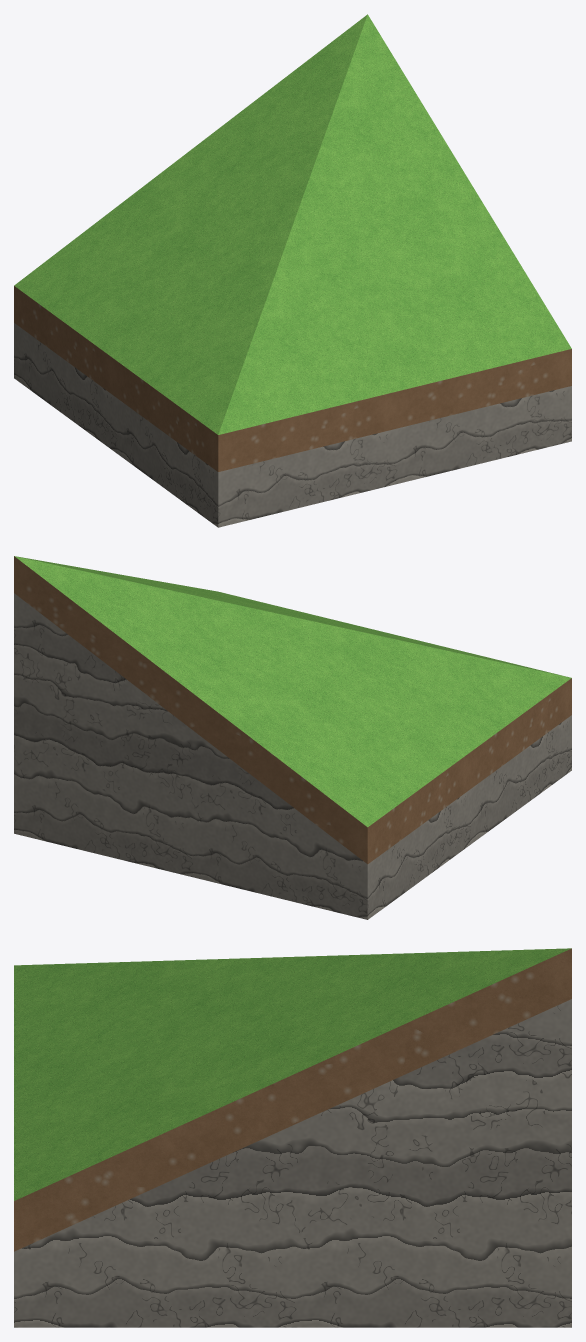
File: Slope_LtoU_OuterCorner.fbx
The picture shows the model from 3 angles, top to bottom: view 1: azimuth 30°, elevation 25°; view 2: azimuth 150°, elevation 25°; view 3: azimuth 270°, elevation 25°; orthographic projection. The views are drawn at different scales.
Visible parts, largest first — view 1: Slope_LtoU_OuterCorner; view 2: Slope_LtoU_OuterCorner; view 3: Slope_LtoU_OuterCorner.
Part boxes in pixels (box(x1,y1,x2,y2)): Slope_LtoU_OuterCorner: box(14, 14, 571, 527); Slope_LtoU_OuterCorner: box(14, 556, 571, 919); Slope_LtoU_OuterCorner: box(14, 948, 571, 1327).
Size of the model in its own units: 3 by 2.25 by 3.
Materials: 3 (3 with a texture image).
